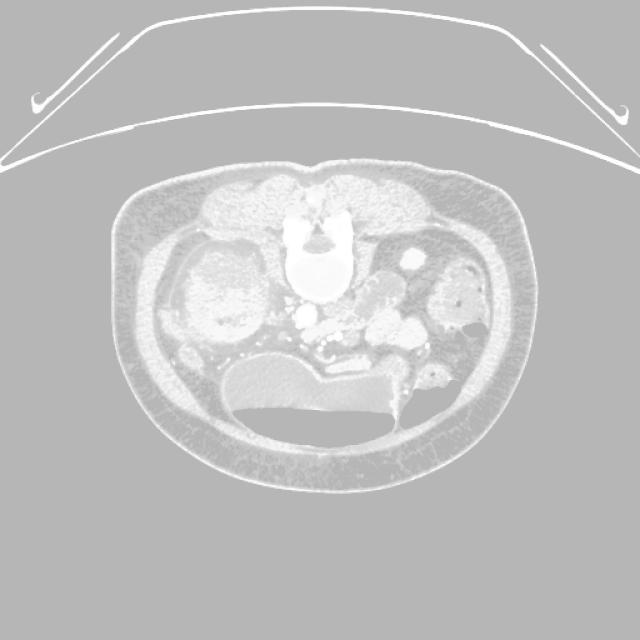TUMOR: (97, 231, 546, 379)
